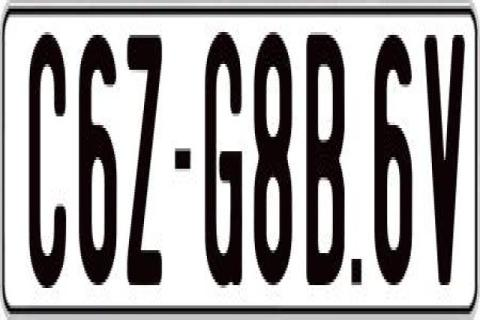0: (374, 32, 416, 291), (253, 24, 292, 294), (78, 27, 119, 280)
B: (306, 32, 349, 285)
C: (30, 29, 68, 282)
G: (205, 32, 245, 302)
V: (422, 32, 458, 285)
Z: (125, 35, 162, 294)
